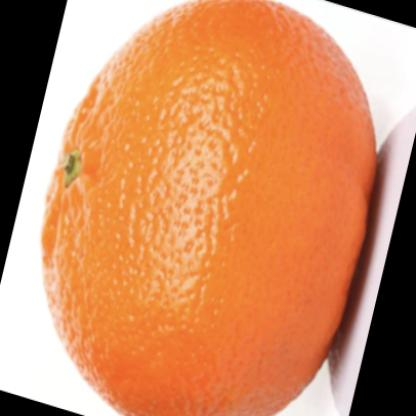fresh: (35, 1, 374, 416)
